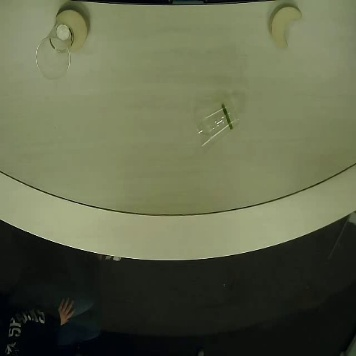empty_cup: (191, 98, 240, 148), (35, 23, 72, 80)
puck: (54, 10, 88, 53), (267, 5, 301, 48)
